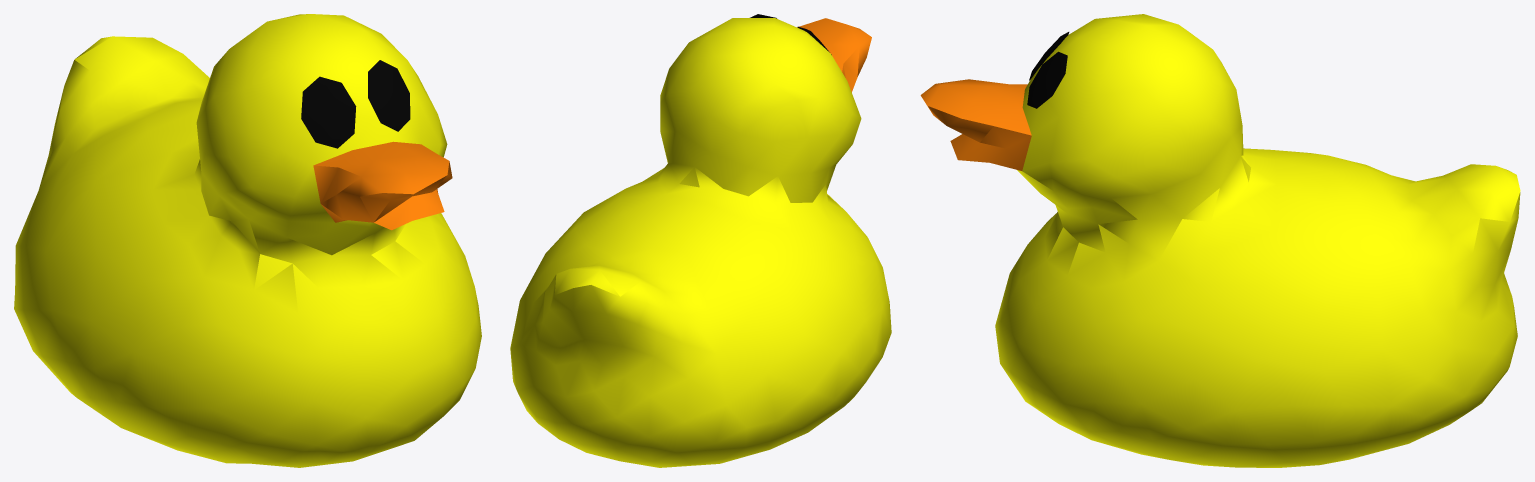
File: Canard.fbx
3 views of the same model, side by side, from view 1: azimuth 30°, elevation 25°; view 2: azimuth 150°, elevation 25°; view 3: azimuth 270°, elevation 25° (orthographic). The views are drawn at different scales.
Visible parts, largest first — view 1: transform3; view 2: transform3; view 3: transform3.
Boxes of the visible parts, box(x1,y1,x2,y2) form: transform3: box(14, 14, 481, 467); transform3: box(510, 14, 891, 467); transform3: box(920, 14, 1520, 467).
Bounding box in the file's own units: 117 × 133 × 174.
